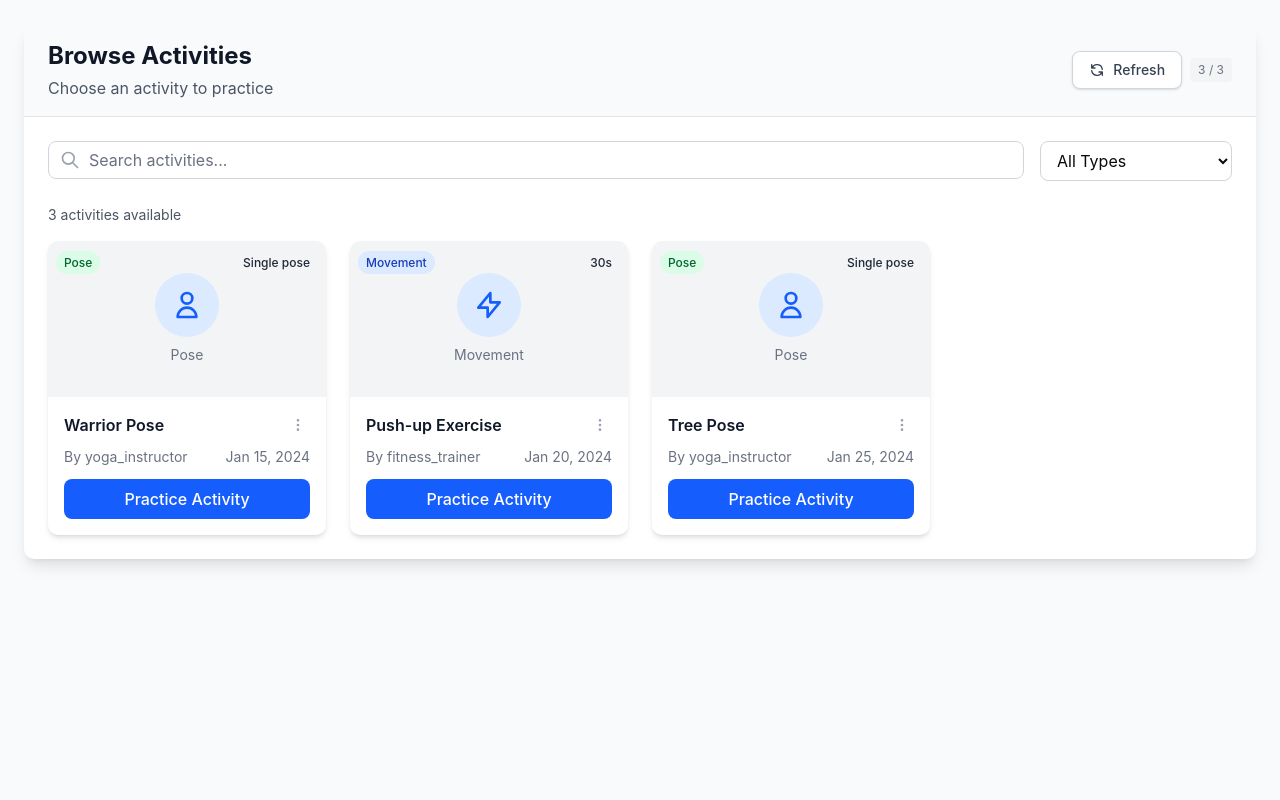
Test: ActivityBrowser › should reload the first page after deletion
Step 1. Click the button named "More options" next to "Warrior Pose" → (298, 425), box [286,413,310,437]
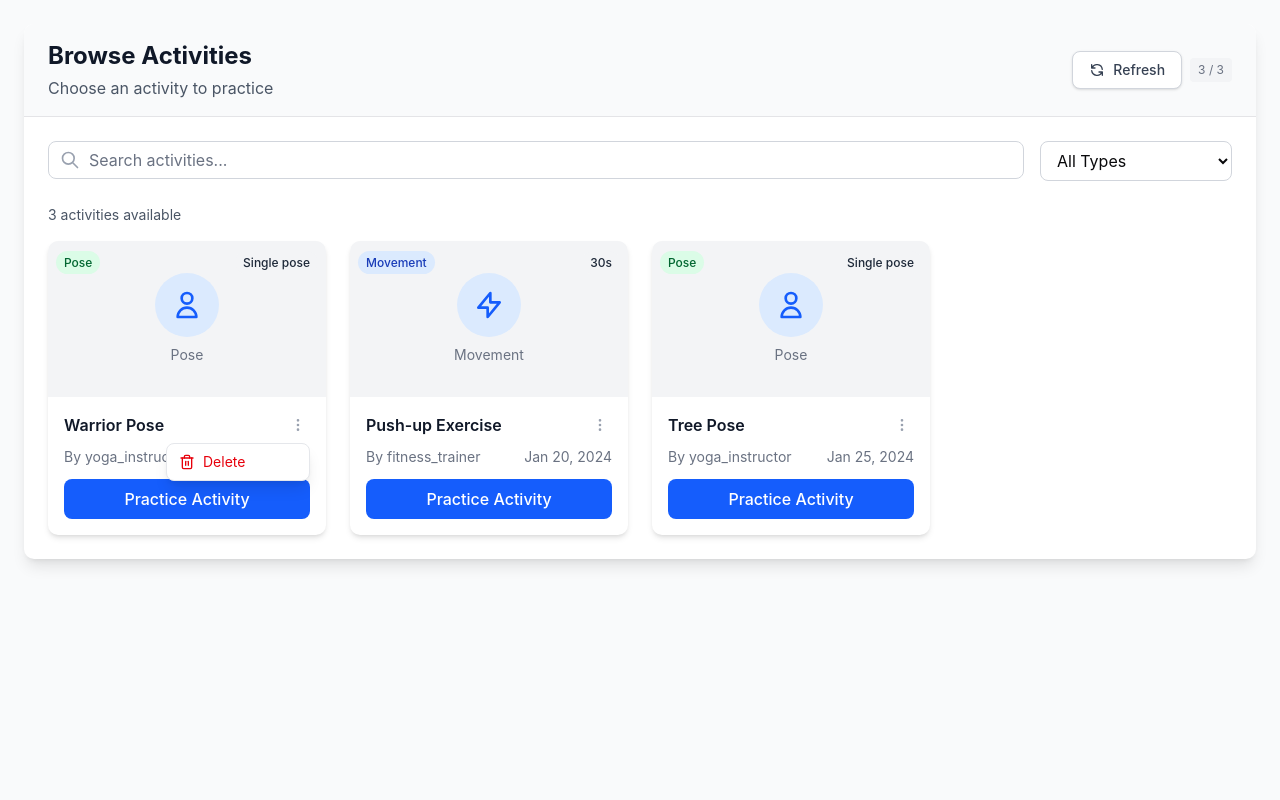
Step 2. Click the menu item "Delete" → (238, 462), box [167,444,309,480]
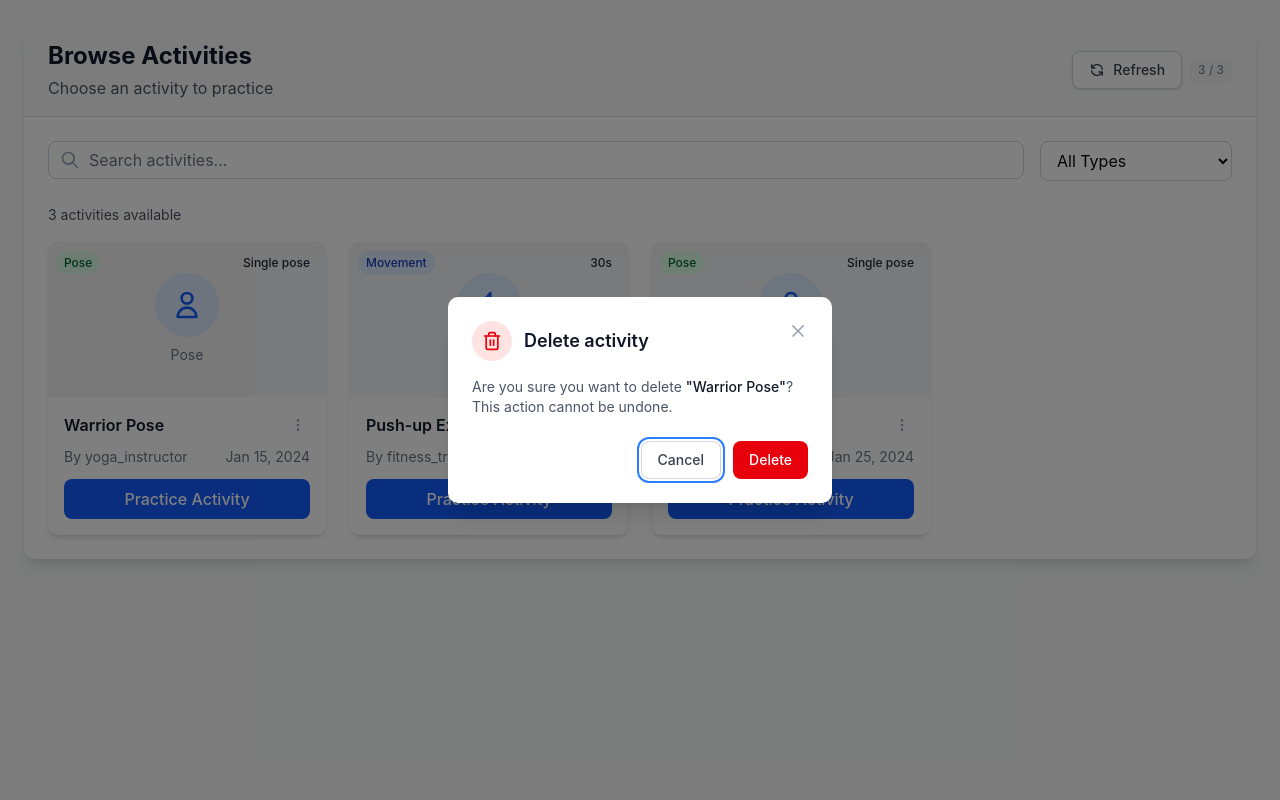
Step 3. Click the button "Delete" → (771, 460), box [733,441,808,479]
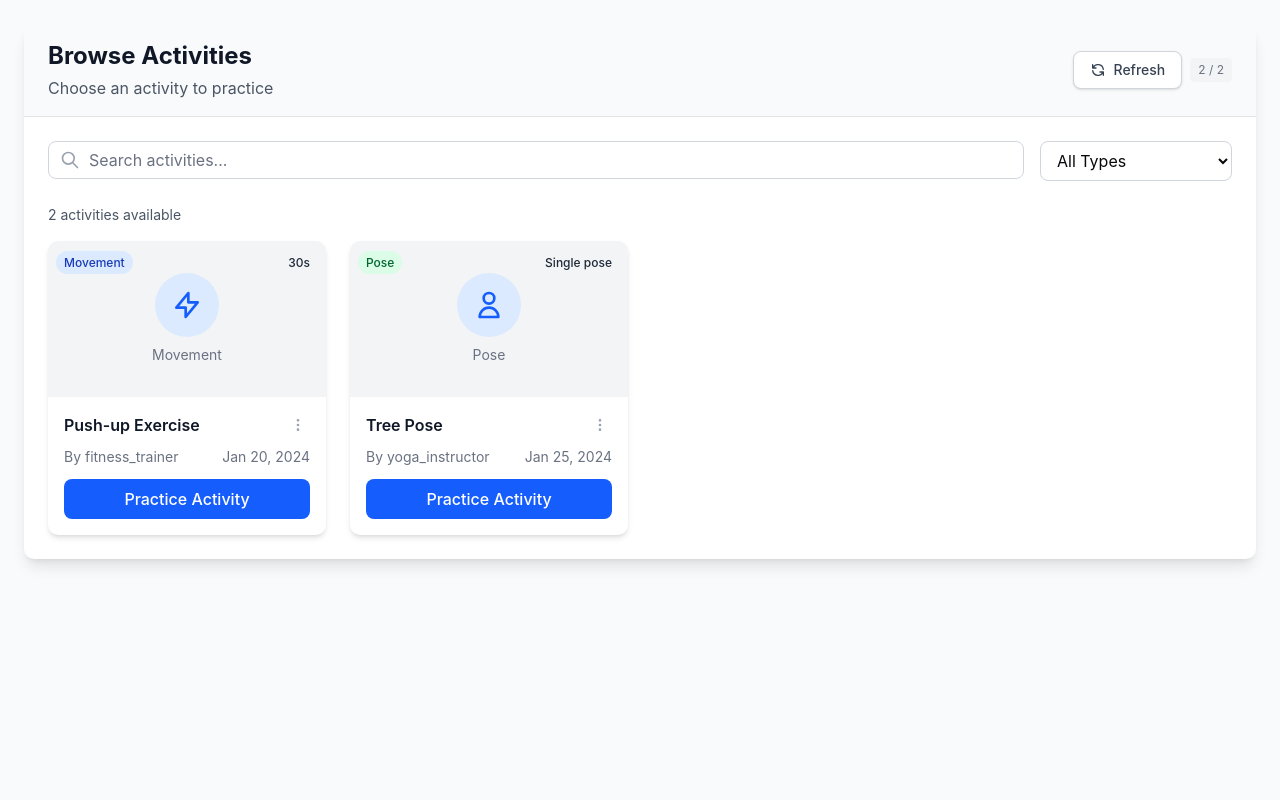
Check: the text "Warrior Pose" is gone
Check: the text "2 / 2" is shown, box [1190,58,1232,82]
